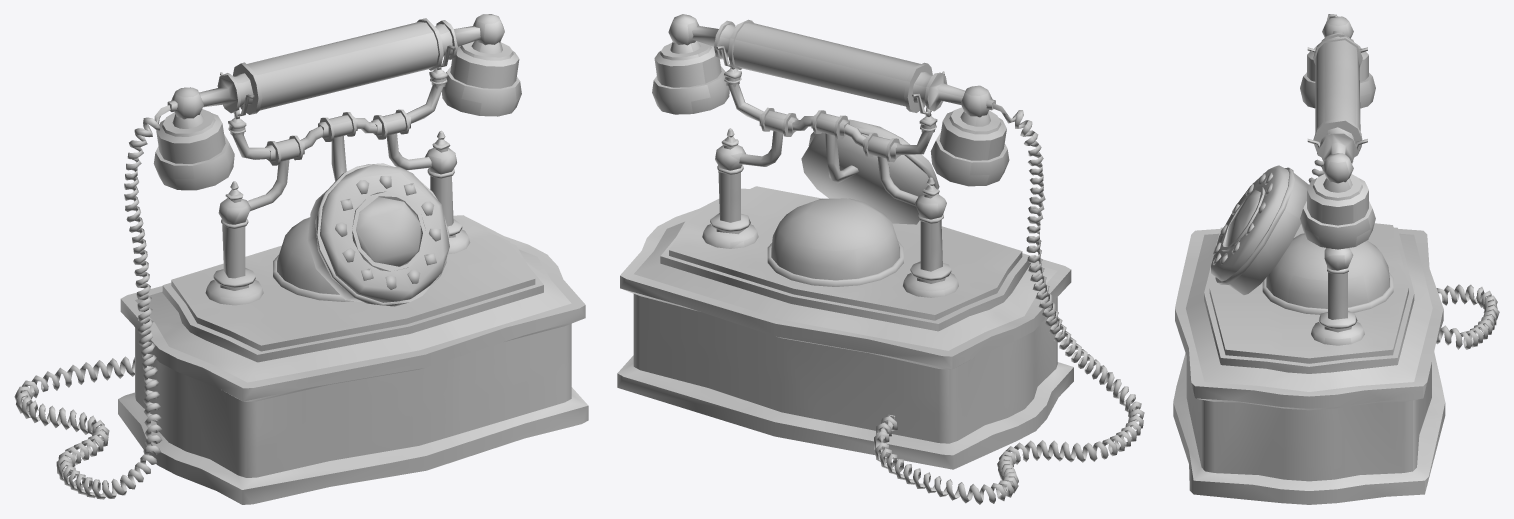
The model's file is phone_ornate.glb.
The picture shows the model from 3 angles, left to right: view 1: azimuth 30°, elevation 25°; view 2: azimuth 150°, elevation 25°; view 3: azimuth 270°, elevation 25°; orthographic projection. The views are drawn at different scales.
Parts seen in each view (by area): view 1: phone_ornate, handset; view 2: phone_ornate, handset; view 3: phone_ornate, handset.
Boxes of the visible parts, <box> form: phone_ornate: <box>14,45,588,504</box>; handset: <box>153,14,521,190</box>; phone_ornate: <box>617,45,1144,504</box>; handset: <box>652,14,1009,186</box>; phone_ornate: <box>1173,14,1499,504</box>; handset: <box>1300,16,1375,249</box>.
Size of the model in its own units: 0.2713 by 0.1951 by 0.1698.
1 material, 1 textured.
